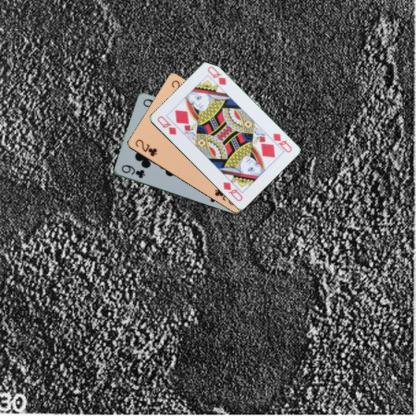2c: (132, 136, 158, 158)
9c: (119, 162, 146, 180)
Qd: (265, 130, 293, 154), (154, 113, 178, 136)
